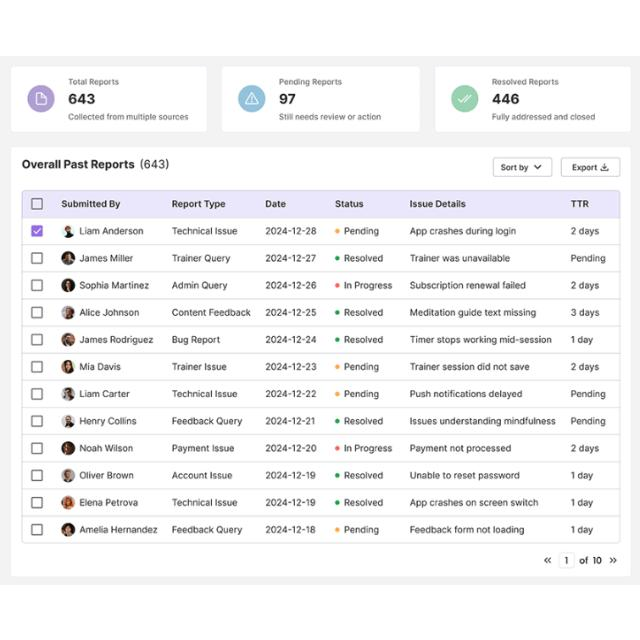QLabel: (21, 157, 134, 170), (68, 112, 188, 120), (492, 112, 596, 120), (278, 112, 382, 120), (492, 77, 558, 86), (278, 77, 344, 85), (68, 76, 120, 85), (140, 157, 168, 171), (68, 92, 95, 104), (492, 91, 520, 102), (572, 163, 598, 171), (279, 92, 295, 104)
VBtn: (561, 157, 621, 177)
VCard: (10, 144, 632, 578), (434, 65, 632, 133), (10, 64, 208, 132), (222, 65, 420, 131)
VCombobox: (493, 156, 553, 177)
VDataTable: (19, 187, 623, 571)
VIcon: (244, 92, 260, 105), (35, 91, 47, 105), (458, 94, 472, 102), (600, 162, 608, 172)
